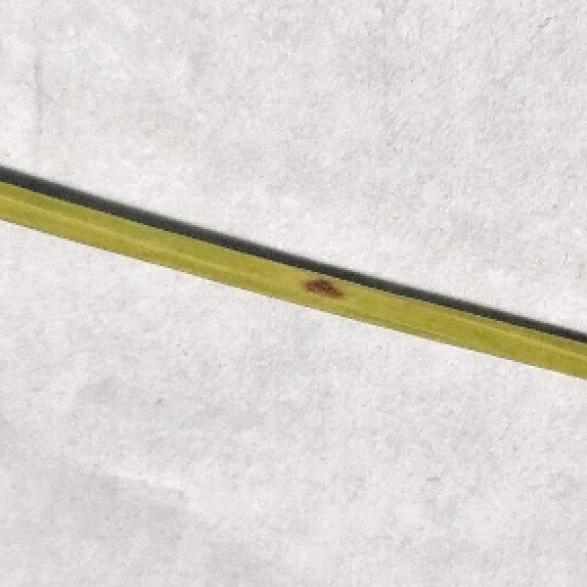Leaf_smut: (286, 266, 360, 313)
